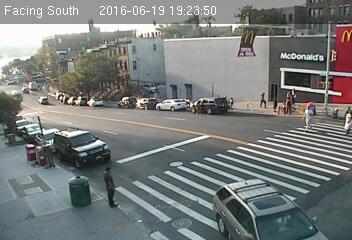neg: (13, 35, 45, 78), (207, 101, 237, 141), (145, 161, 174, 200), (59, 171, 87, 208), (22, 133, 48, 168), (241, 27, 266, 59), (94, 32, 117, 63), (63, 74, 85, 104), (147, 88, 168, 116), (99, 82, 120, 110), (188, 68, 209, 95), (253, 132, 274, 159), (221, 188, 241, 214), (269, 186, 289, 212), (80, 126, 95, 146), (174, 210, 187, 229)
pos: (96, 164, 131, 210), (300, 104, 321, 132), (256, 90, 268, 106)
